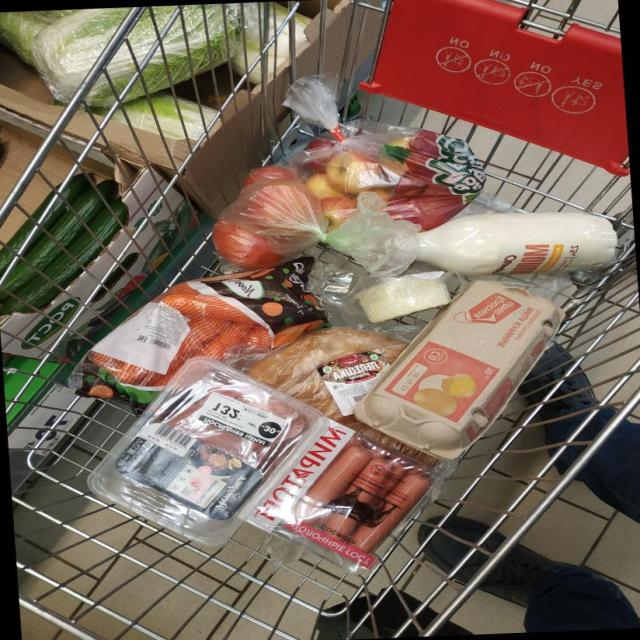Apple: (325, 150, 373, 193), (320, 195, 357, 229), (305, 173, 345, 199), (305, 134, 337, 150), (309, 157, 327, 172), (372, 188, 392, 201), (388, 136, 410, 147)
Bread: (248, 328, 406, 417)
Carrot: (170, 317, 229, 374), (161, 293, 250, 321), (202, 322, 249, 359), (120, 364, 149, 384), (92, 352, 111, 365)
Cheese: (358, 276, 451, 322)
Cucumber: (1, 199, 129, 313), (3, 181, 115, 288), (0, 174, 91, 278)
Eggs: (356, 280, 563, 458)
Meat: (88, 357, 319, 546)
Milk: (415, 211, 618, 275)
Sausages: (247, 418, 434, 570)
Tomatoes: (213, 219, 283, 269), (243, 165, 299, 188)
